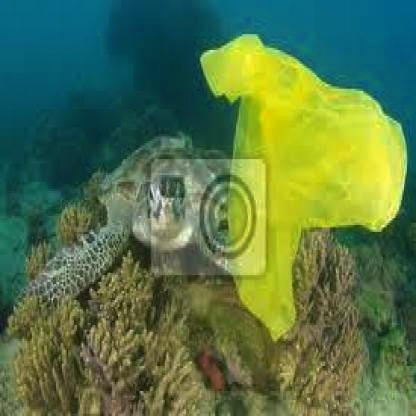pbag: (197, 27, 413, 348)
